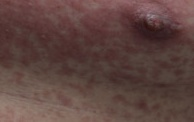SJS-TEN: (0, 0, 194, 89)
